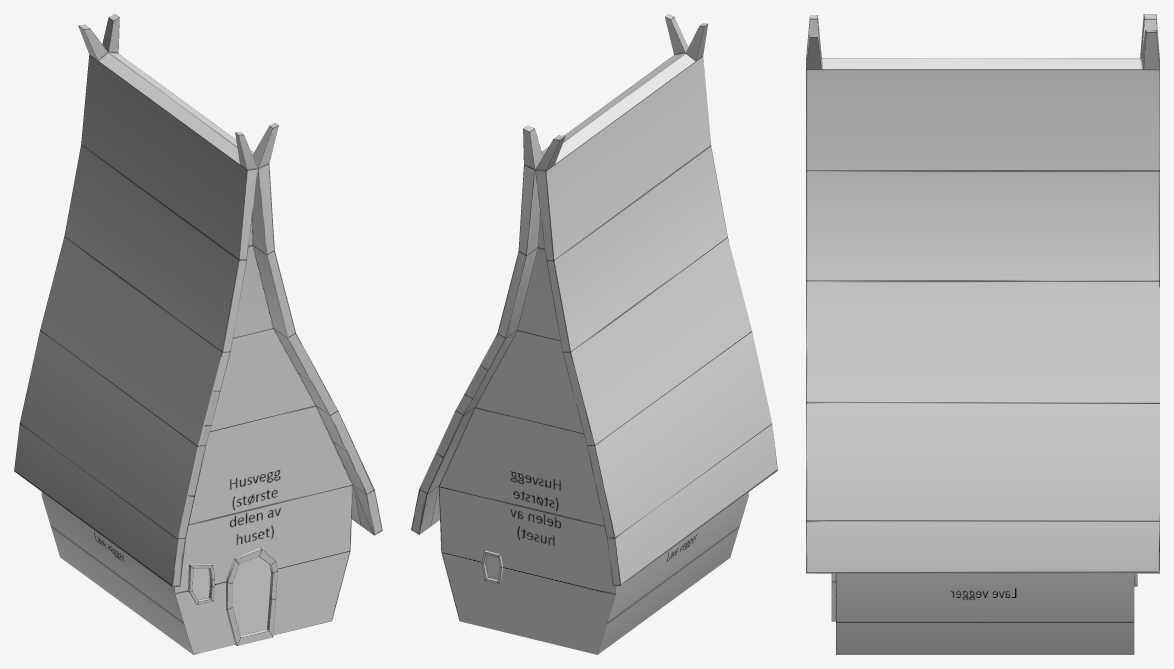
The model's file is House01.fbx.
3 views of the same model, side by side, from view 1: azimuth 30°, elevation 25°; view 2: azimuth 150°, elevation 25°; view 3: azimuth 270°, elevation 25° (orthographic). The views are drawn at different scales.
Visible parts, largest first — view 1: House_01; view 2: House_01; view 3: House_01.
Part boxes in pixels (x1,y1,x2,y2): House_01: [14, 14, 382, 654]; House_01: [411, 14, 777, 654]; House_01: [806, 14, 1159, 654].
Bounding box in the file's own units: 577 × 1362 × 749.
1 material, 1 textured.
